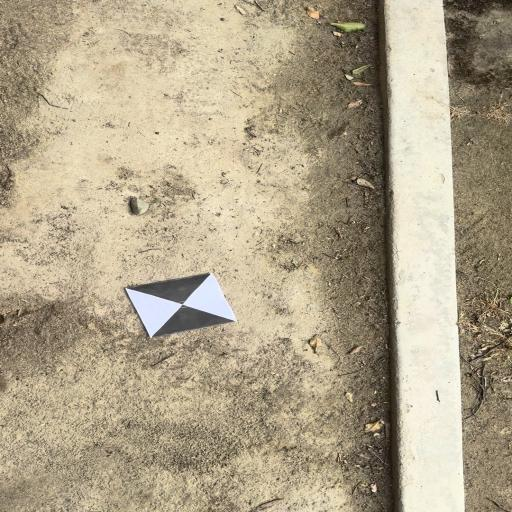target: (127, 273, 237, 338)
